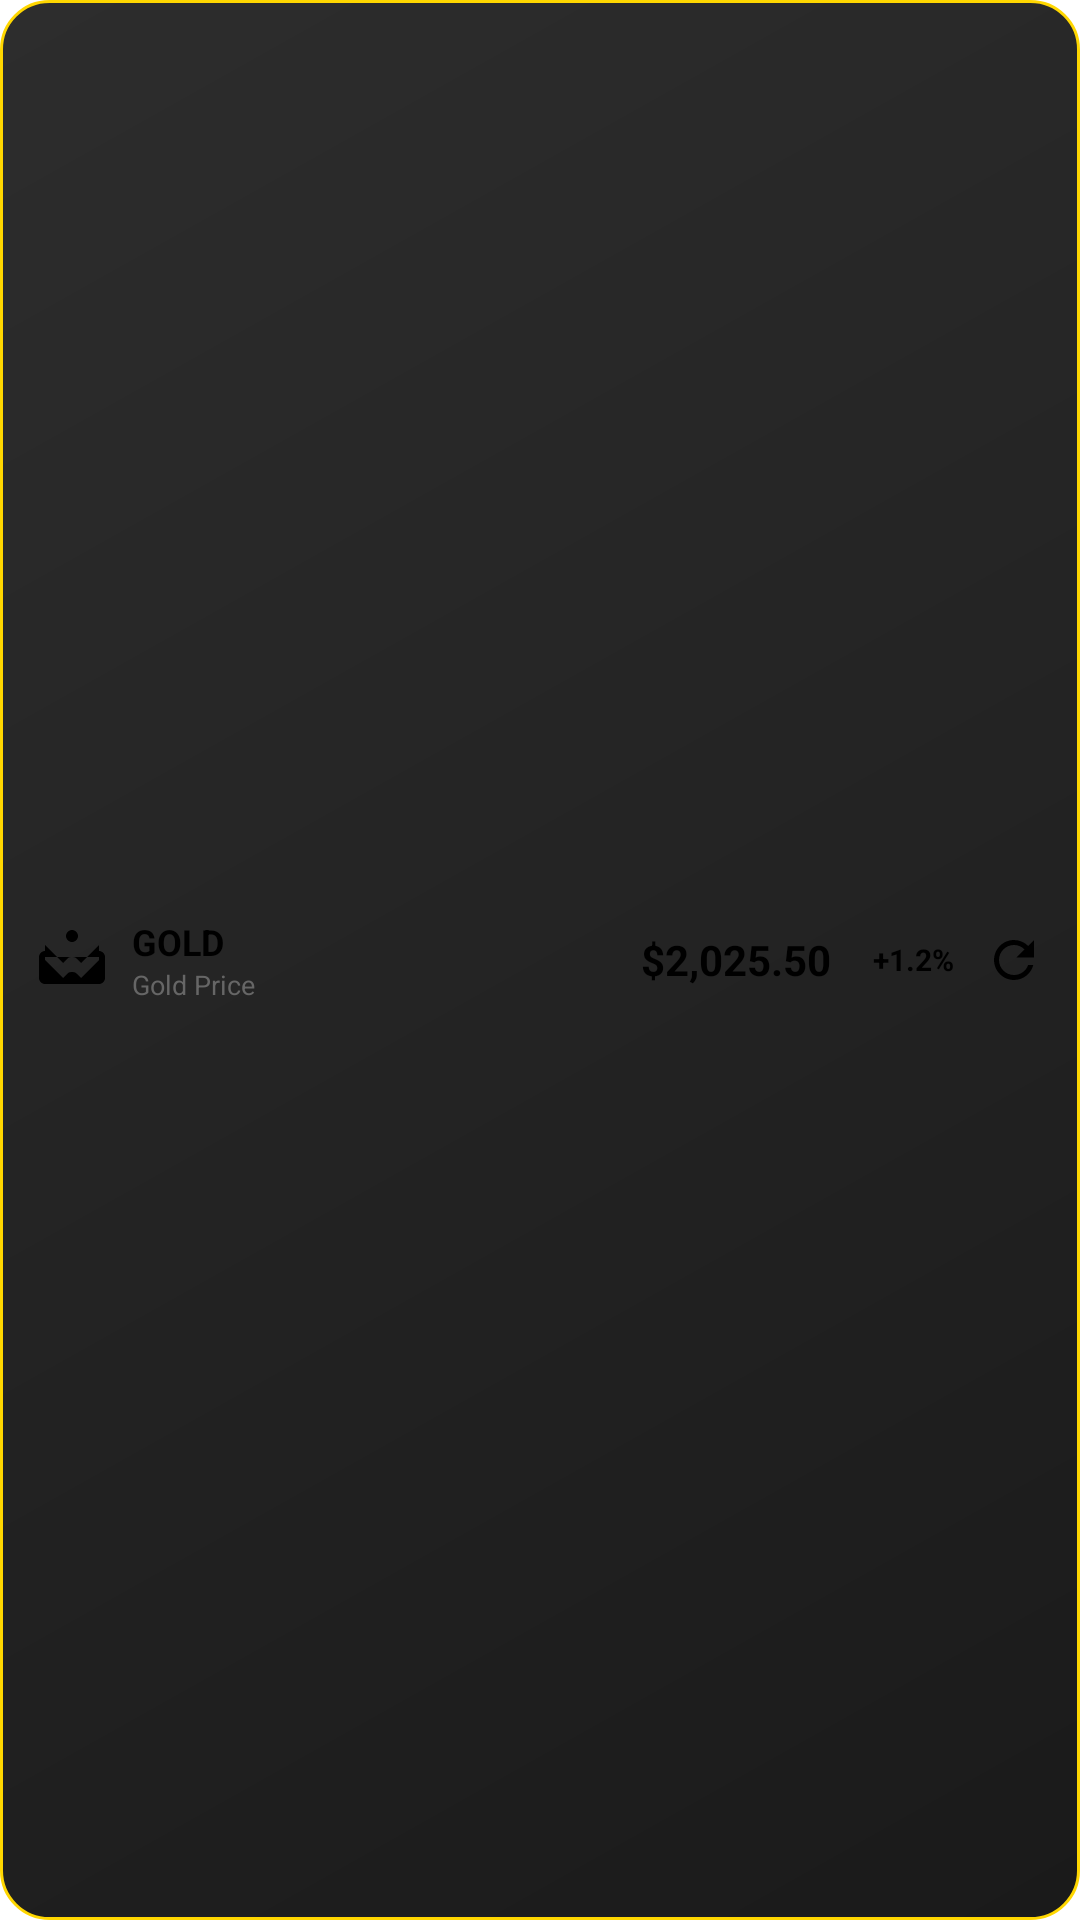

Where icons sit on this 1080 × 1920 app screen, as (x1, y1, x2, y2):
refresh: (994, 940, 1034, 980)
